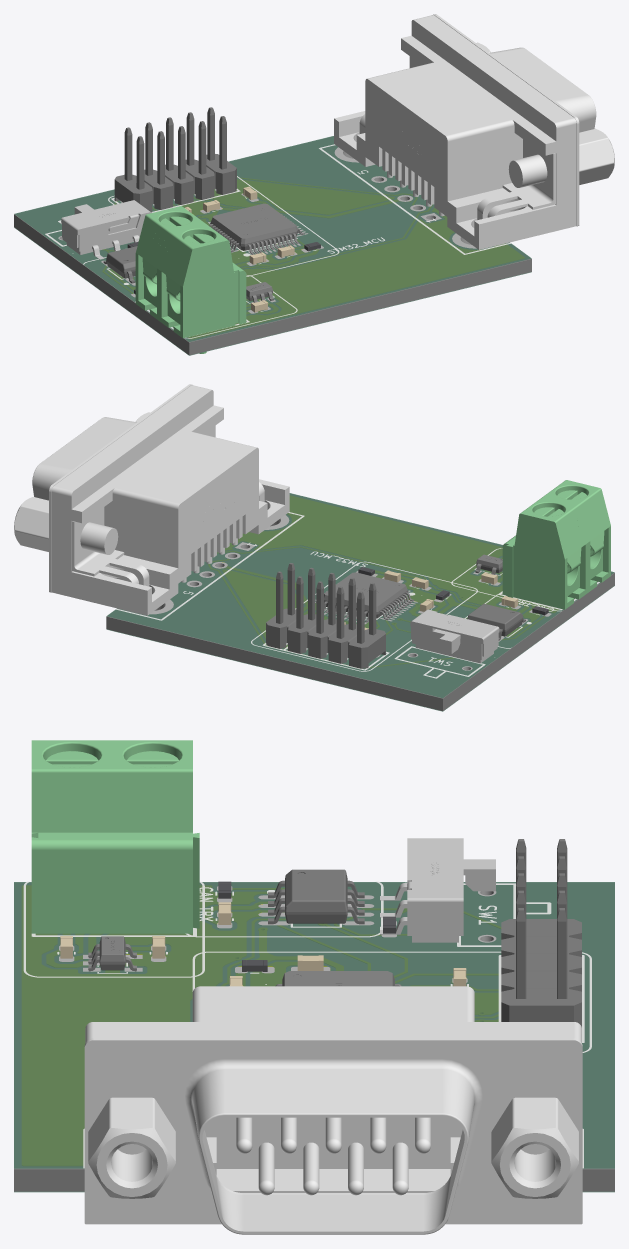
The model's file is board.glb.
The picture shows the model from 3 angles, top to bottom: view 1: azimuth 30°, elevation 25°; view 2: azimuth 150°, elevation 25°; view 3: azimuth 270°, elevation 25°; orthographic projection. The views are drawn at different scales.
Visible parts, largest first — view 1: J2, =>[0:1:1:15], =>[0:1:1:17], =>[0:1:1:11], J1, J3, SW1, U2, =>[0:1:1:14], =>[0:1:1:12], U3, =>[0:1:1:16]; view 2: J2, =>[0:1:1:15], =>[0:1:1:17], =>[0:1:1:11], J1, J3, SW1, =>[0:1:1:14], U2, =>[0:1:1:12], U3, =>[0:1:1:16]; view 3: J2, =>[0:1:1:15], J1, =>[0:1:1:17], =>[0:1:1:11], J3, SW1, =>[0:1:1:14], U3, U2, =>[0:1:1:12], U1.
Boxes of the visible parts, x1,y1,x2,y2 form: J2: (334,14,614,249); =>[0:1:1:15]: (14,136,531,341); =>[0:1:1:17]: (14,137,531,355); =>[0:1:1:11]: (103,178,524,338); J1: (135,206,246,353); J3: (114,107,236,212); SW1: (61,200,151,259); U2: (209,203,304,254); =>[0:1:1:14]: (45,144,511,338); =>[0:1:1:12]: (58,147,476,313); U3: (103,246,137,283); =>[0:1:1:16]: (14,227,531,355); J2: (14,384,289,615); =>[0:1:1:15]: (106,493,614,698); =>[0:1:1:17]: (106,494,614,711); =>[0:1:1:11]: (208,496,556,667); J1: (502,480,610,609); J3: (266,563,385,668); SW1: (410,609,499,663); =>[0:1:1:14]: (115,512,599,678); U2: (316,572,414,622); =>[0:1:1:12]: (149,515,551,670); U3: (467,603,525,640); =>[0:1:1:16]: (107,585,614,711); J2: (84,986,582,1234); =>[0:1:1:15]: (14,882,614,1168); J1: (31,740,199,933); =>[0:1:1:17]: (14,883,614,1191); =>[0:1:1:11]: (22,886,500,1165); J3: (501,839,581,1027); SW1: (380,838,495,942); =>[0:1:1:14]: (23,881,591,1168); U3: (268,869,364,924); U2: (275,971,401,986); =>[0:1:1:12]: (59,886,496,986); U1: (88,936,136,971).
Bounding box in the file's own units: 0.0568 × 0.0162 × 0.0373.
